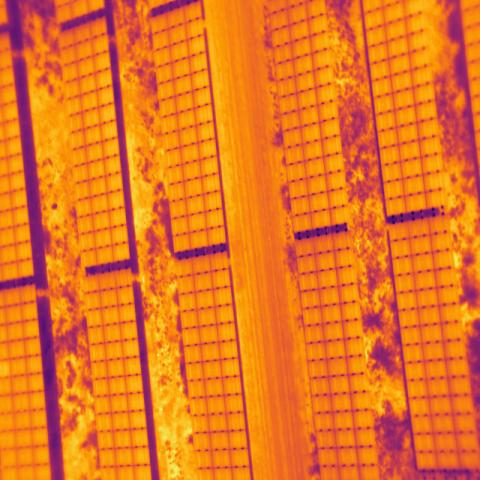fault: (0, 358, 11, 378)
